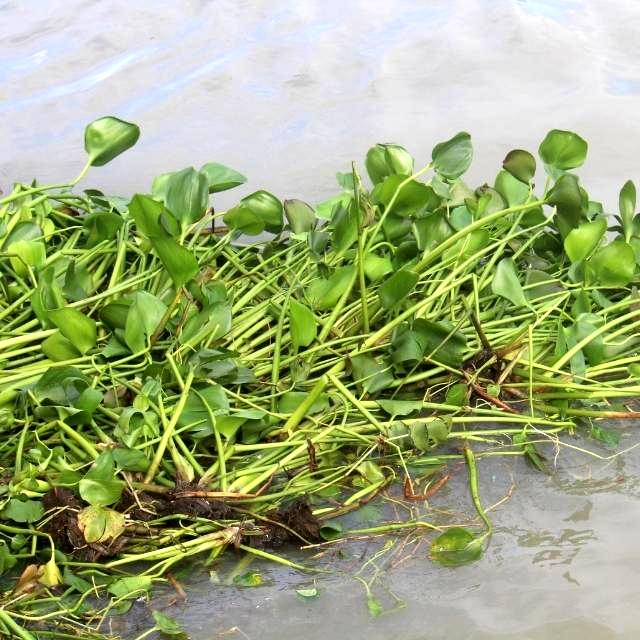water-hyacinth: (3, 96, 640, 630)
